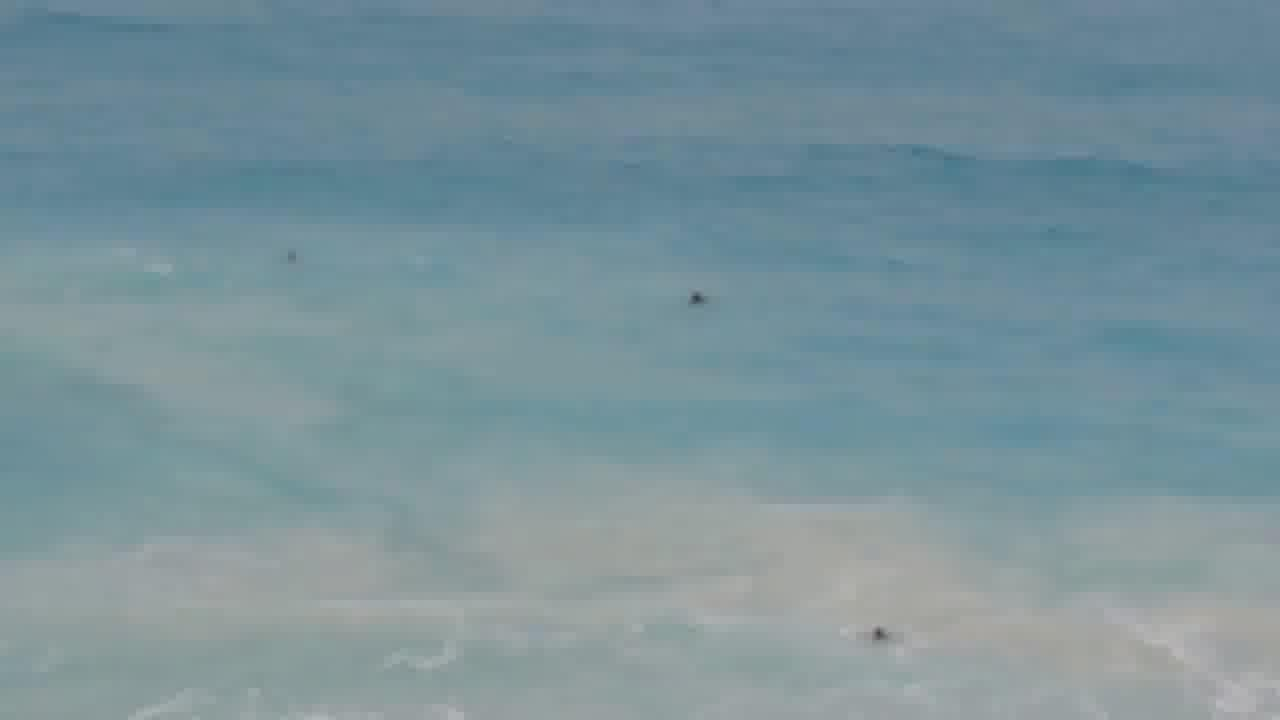swimmer: (672, 281, 725, 328), (856, 608, 911, 652), (269, 237, 325, 273)
